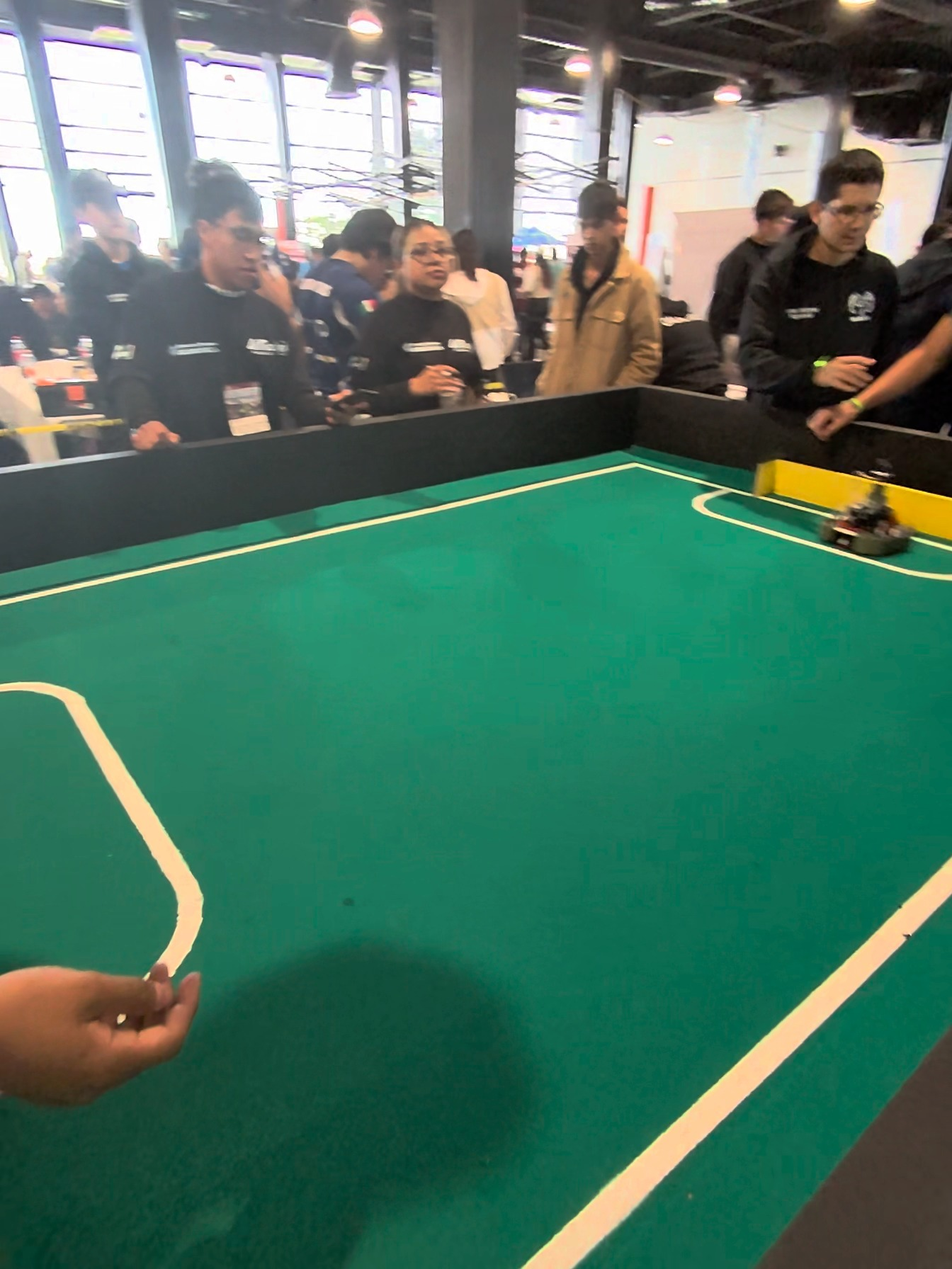Robot: (823, 474, 906, 558)
